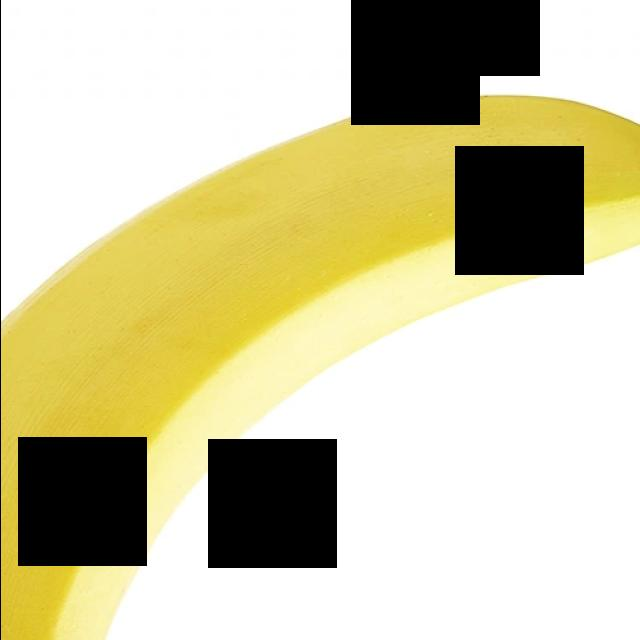banana: (0, 90, 640, 640)
